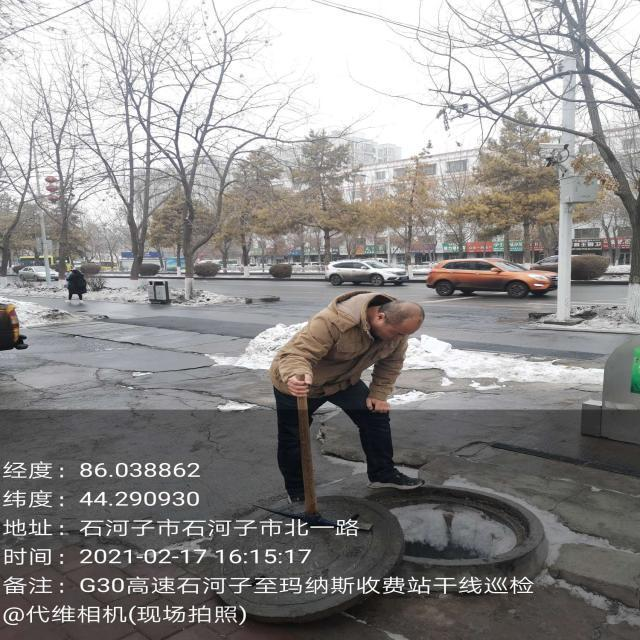manhole: (323, 484, 549, 589)
